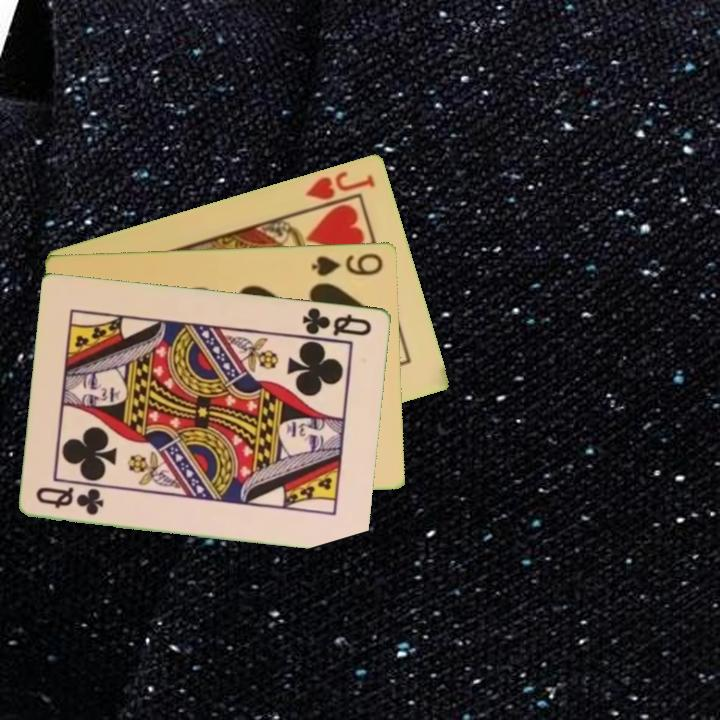9s: (309, 249, 386, 279)
Jh: (302, 167, 378, 203)
Qc: (299, 303, 375, 338), (33, 483, 108, 518)
